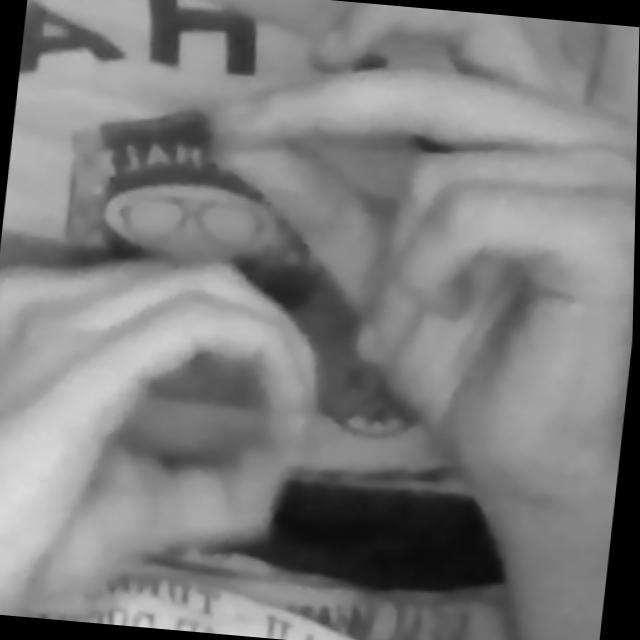O--: (0, 23, 639, 640)
